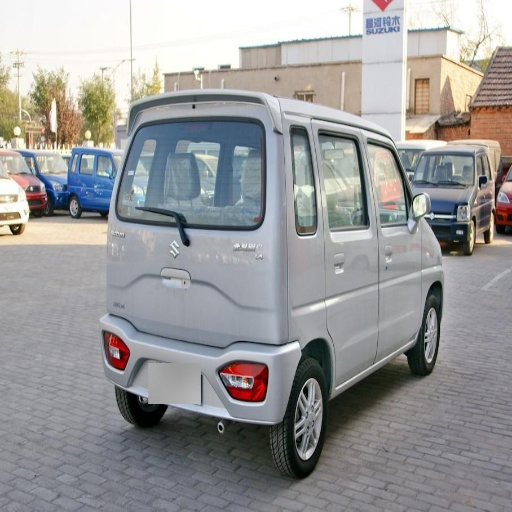front_glass: (146, 121, 224, 153)
trunk: (113, 159, 321, 345), (392, 228, 445, 318)
